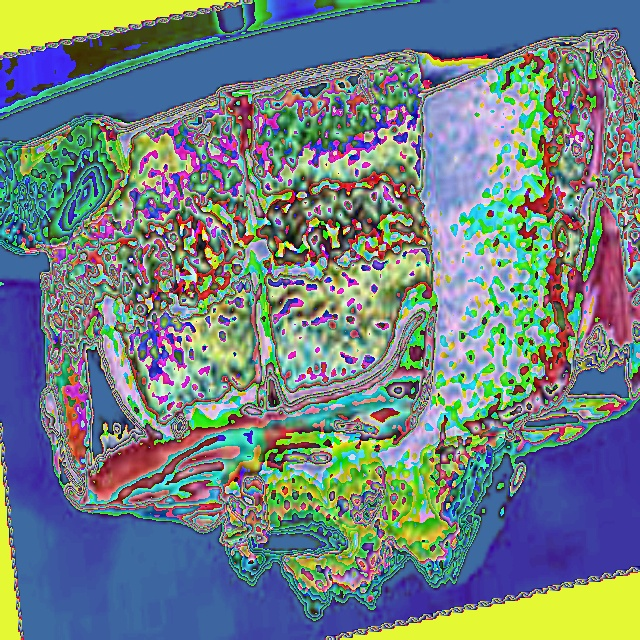background: (0, 26, 640, 627)
